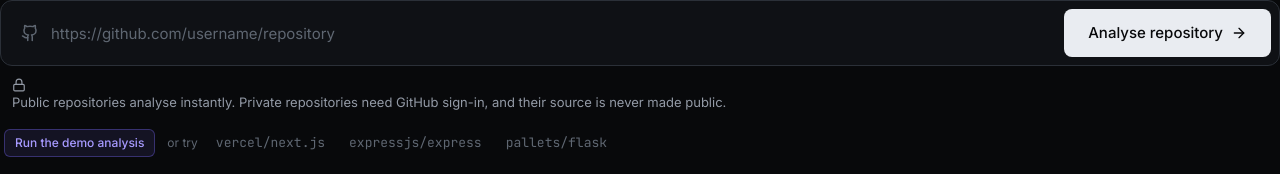
Test: RepoInput › reports a network failure instead of hanging
The width and height of the screenshot is (1280, 174).
Type "github.com/acme/app" into the field named "GitHub repository URL".
click(548, 33); type("github.com/acme/app")  # box [51,11,1044,55]
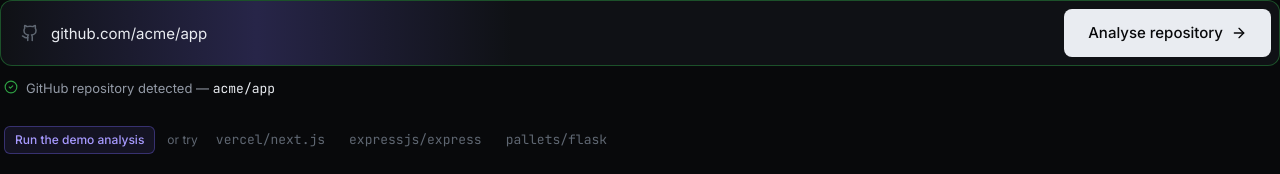
Click the button "Analyse repository".
click(1168, 33)  # box [1064,9,1271,57]
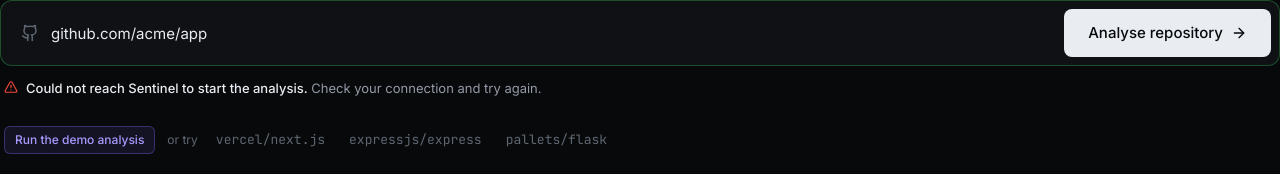
Expected: the text "Could not reach Sentinel to start the analysis." is shown, [26,80,308,96]
